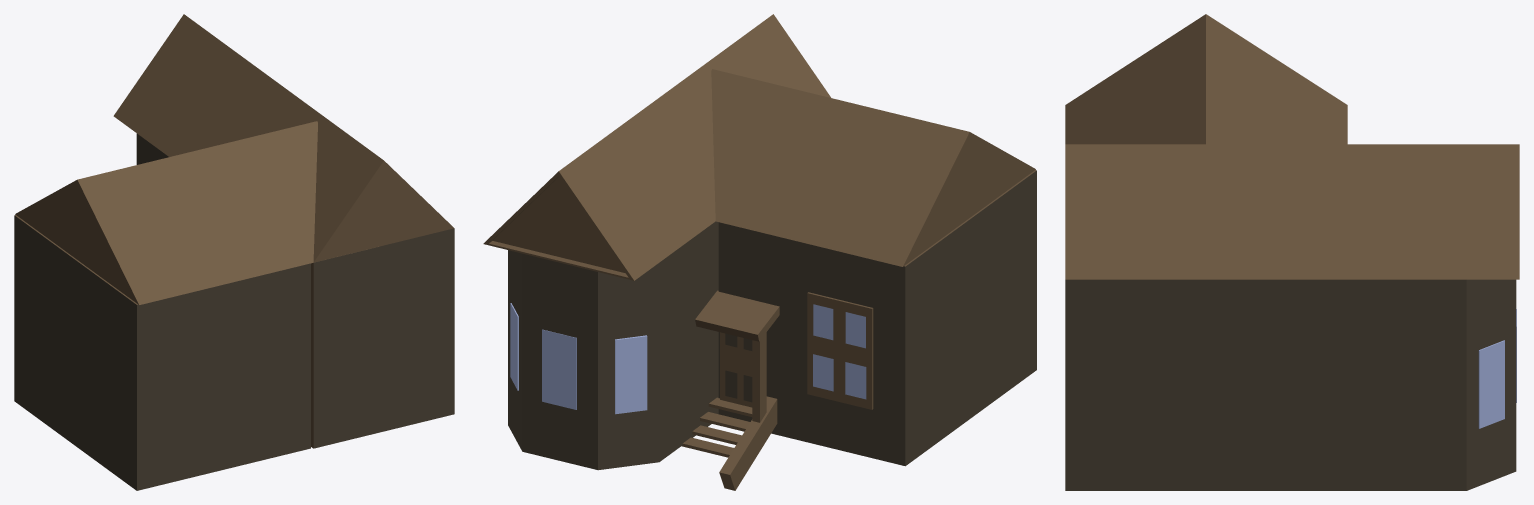
The model's file is Town HouseLeftSide.fbx.
3 views of the same model, side by side, from view 1: azimuth 30°, elevation 25°; view 2: azimuth 150°, elevation 25°; view 3: azimuth 270°, elevation 25° (orthographic). The views are drawn at different scales.
Parts seen in each view (by area): view 1: Cube.031; view 2: Cube.031; view 3: Cube.031.
Boxes of the visible parts, x1=… form: Cube.031: x1=14, y1=14, x2=454, y2=490; Cube.031: x1=483, y1=14, x2=1036, y2=490; Cube.031: x1=1065, y1=14, x2=1519, y2=490.
Bounding box in the file's own units: 2360 × 2096 × 2583.
